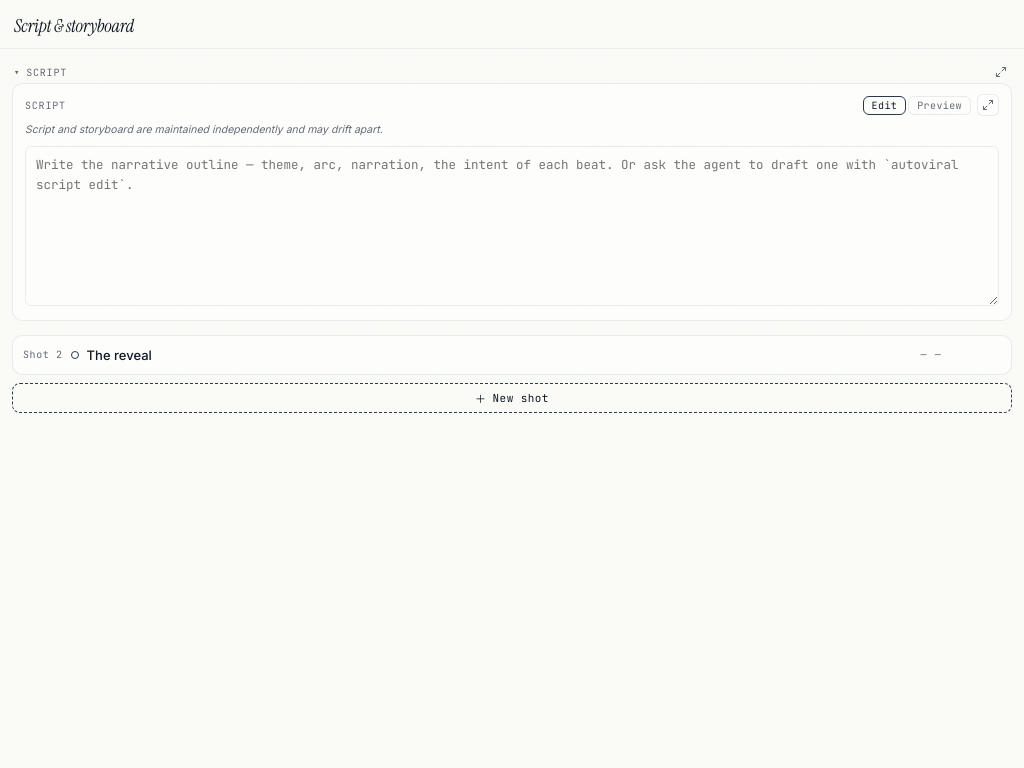
ScriptTab (S3) — read-only storyboard cards › leaves optional controls UNSET on a sparse scene (no leaked defaults)
Expected: the picture named "Planned" is shown, x1=71 y1=351 x2=79 y2=359
Click the button with aria-label "expand shot" at point(43, 355), box x1=23 y1=347 x2=941 y2=363
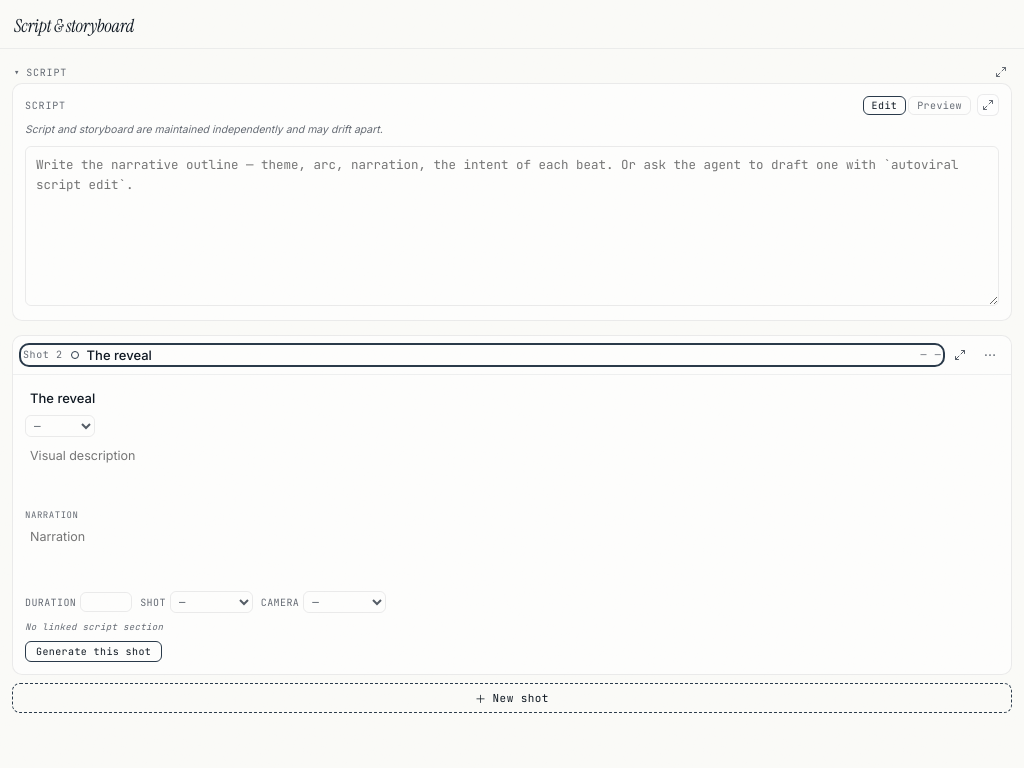
Result: the dropdown named "Set intent" shows "—" at x1=25 y1=415 x2=95 y2=437
Result: the dropdown named "Set shot size" shows "—" at x1=170 y1=591 x2=253 y2=613
Result: the dropdown named "Set camera movement" shows "—" at x1=303 y1=591 x2=386 y2=613
